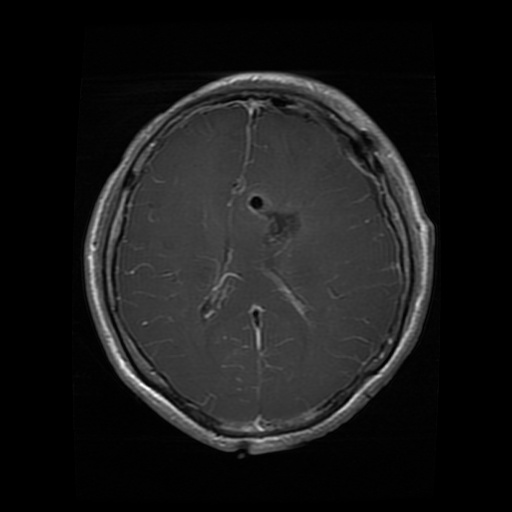glioma: (264, 210, 299, 246)
